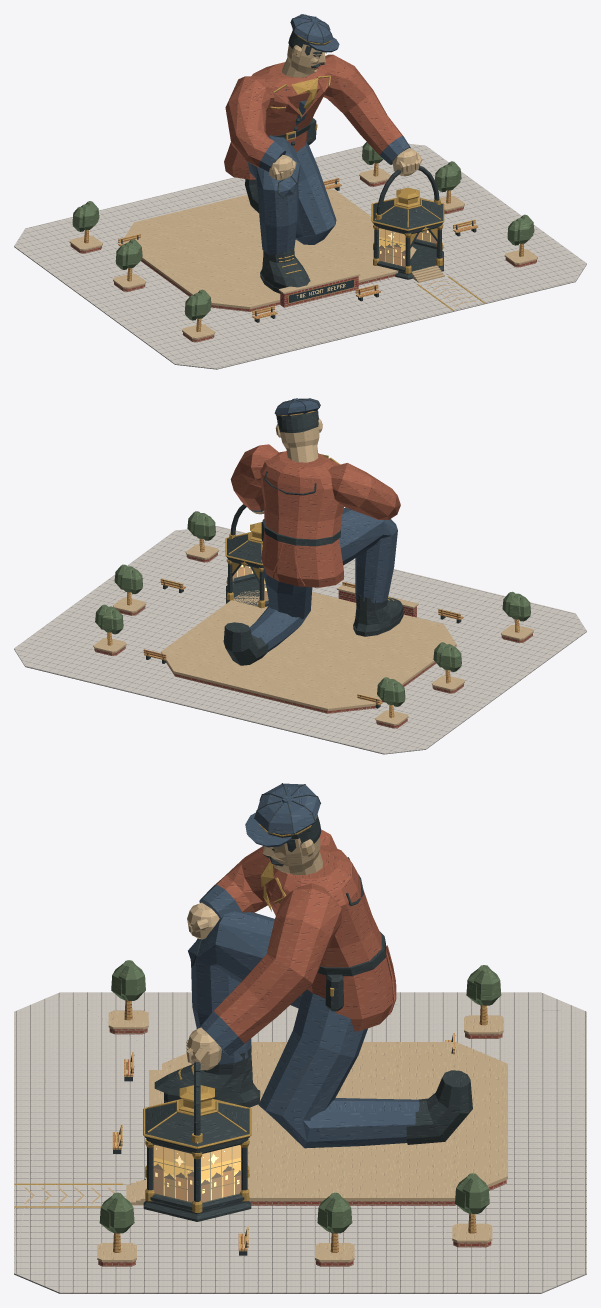
Rendered from night-keeper.glb.
3 renders of one model, top to bottom at view 1: azimuth 30°, elevation 25°; view 2: azimuth 150°, elevation 25°; view 3: azimuth 270°, elevation 25°, orthographic. The views are drawn at different scales.
Parts seen in each view (by area): view 1: City paving, lantern_square__wall_limestone, keeper_figure__wall_fired_clay.001, keeper_figure__wall_indigo, keeper_figure__wall_fired_clay, lantern_pavilion__detail_cast_iron, keeper_figure__detail_cast_iron, keeper_figure__wall_limestone, lantern_pavilion__detail_yellow_ochre, lantern_square__wall_brick, lantern_pavilion__glass_story_panels, keeper_figure__detail_yellow_ochre (+6 smaller); view 2: City paving, lantern_square__wall_limestone, keeper_figure__wall_fired_clay, keeper_figure__wall_indigo, keeper_figure__detail_cast_iron, keeper_figure__wall_fired_clay.001, lantern_pavilion__detail_cast_iron, keeper_figure__wall_limestone, lantern_square__wall_brick, lantern_pavilion__detail_yellow_ochre, square_tree__ground_foliage, square_tree.003__ground_foliage (+4 smaller); view 3: City paving, lantern_square__wall_limestone, keeper_figure__wall_indigo, keeper_figure__wall_fired_clay.001, keeper_figure__wall_fired_clay, keeper_figure__detail_cast_iron, lantern_pavilion__detail_cast_iron, lantern_pavilion__glass_story_panels, keeper_figure__wall_limestone, lantern_pavilion__detail_yellow_ochre, square_tree.004__ground_foliage, square_tree.002__ground_foliage (+9 smaller).
Part boxes in pixels (x1=…): City paving: x1=14, y1=143, x2=586, y2=369; lantern_square__wall_limestone: x1=122, y1=189, x2=476, y2=309; keeper_figure__wall_fired_clay.001: x1=225, y1=54, x2=410, y2=171; keeper_figure__wall_indigo: x1=248, y1=15, x2=339, y2=255; keeper_figure__wall_fired_clay: x1=224, y1=62, x2=330, y2=179; lantern_pavilion__detail_cast_iron: x1=373, y1=166, x2=443, y2=279; keeper_figure__detail_cast_iron: x1=245, y1=14, x2=333, y2=293; keeper_figure__wall_limestone: x1=268, y1=44, x2=422, y2=180; lantern_pavilion__detail_yellow_ochre: x1=371, y1=187, x2=444, y2=273; lantern_square__wall_brick: x1=141, y1=259, x2=395, y2=311; lantern_pavilion__glass_story_panels: x1=378, y1=228, x2=436, y2=267; keeper_figure__detail_yellow_ochre: x1=270, y1=35, x2=330, y2=274; City paving: x1=14, y1=526, x2=586, y2=754; lantern_square__wall_limestone: x1=161, y1=585, x2=456, y2=710; keeper_figure__wall_fired_clay: x1=260, y1=451, x2=343, y2=587; keeper_figure__wall_indigo: x1=250, y1=398, x2=397, y2=651; keeper_figure__detail_cast_iron: x1=223, y1=398, x2=403, y2=665; keeper_figure__wall_fired_clay.001: x1=230, y1=444, x2=400, y2=520; lantern_pavilion__detail_cast_iron: x1=226, y1=504, x2=269, y2=606; keeper_figure__wall_limestone: x1=249, y1=418, x2=322, y2=514; lantern_square__wall_brick: x1=166, y1=590, x2=436, y2=713; lantern_pavilion__detail_yellow_ochre: x1=225, y1=522, x2=265, y2=608; square_tree__ground_foliage: x1=502, y1=591, x2=530, y2=621; square_tree.003__ground_foliage: x1=95, y1=604, x2=123, y2=634; City paving: x1=14, y1=992, x2=586, y2=1293; lantern_square__wall_limestone: x1=24, y1=1042, x2=507, y2=1203; keeper_figure__wall_indigo: x1=188, y1=783, x2=419, y2=1148; keeper_figure__wall_fired_clay.001: x1=199, y1=829, x2=341, y2=1055; keeper_figure__wall_fired_clay: x1=268, y1=845, x2=396, y2=1031; keeper_figure__detail_cast_iron: x1=154, y1=783, x2=472, y2=1144; lantern_pavilion__detail_cast_iron: x1=143, y1=1062, x2=251, y2=1221; lantern_pavilion__glass_story_panels: x1=153, y1=1145, x2=241, y2=1203; keeper_figure__wall_limestone: x1=186, y1=837, x2=323, y2=1070; lantern_pavilion__detail_yellow_ochre: x1=143, y1=1085, x2=251, y2=1212; square_tree.004__ground_foliage: x1=317, y1=1192, x2=352, y2=1233; square_tree.002__ground_foliage: x1=466, y1=965, x2=501, y2=1005.
Bounding box in the file's own units: 62 × 34.34 × 50.
Materials: 11 (11 with a texture image).
